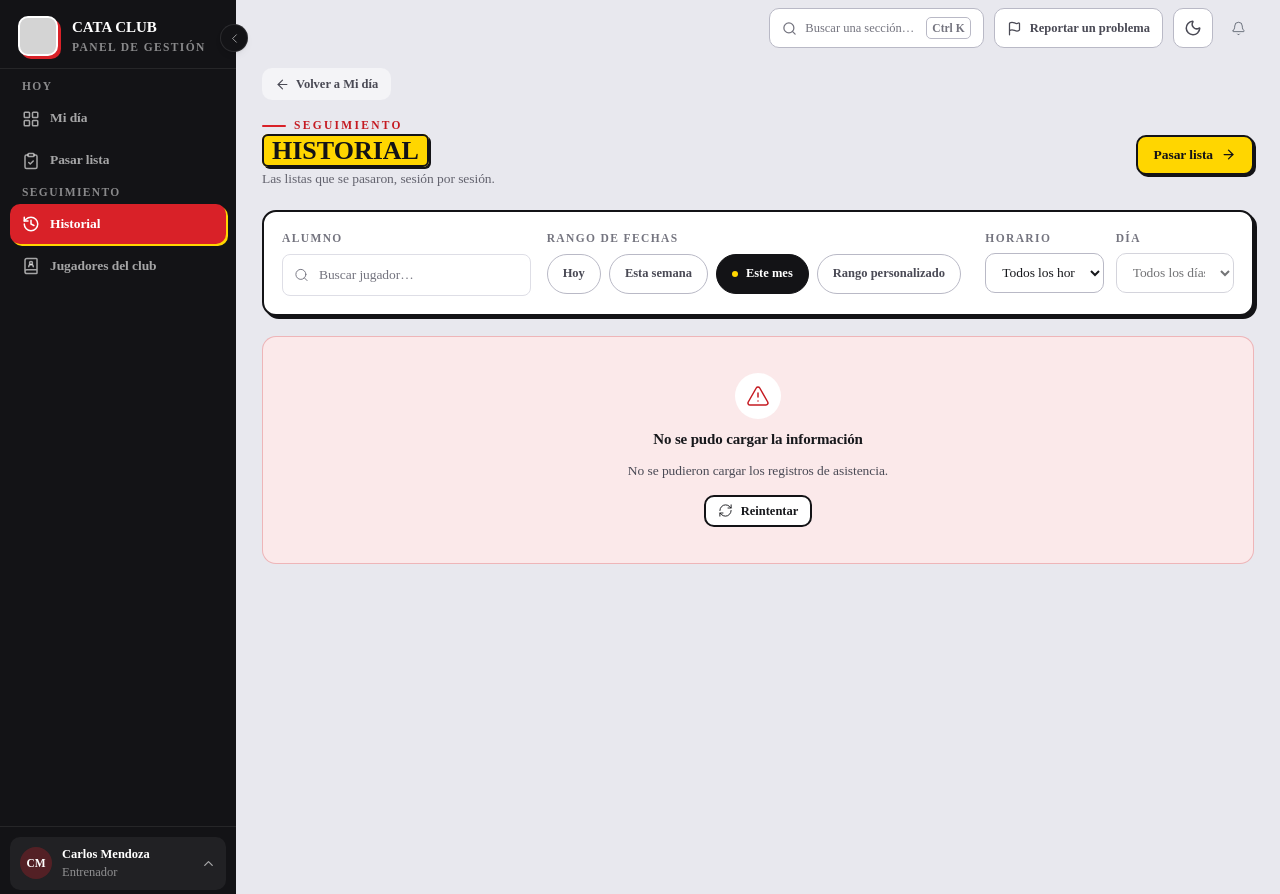
Scenario: TrainerAttendanceHistoryPage › recovers from a failed load with a retry
Expected: the text "No se pudieron cargar los registros de asistencia." is shown, [628, 461, 888, 481]
Click the button "Reintentar": (758, 511) [704, 495, 812, 527]
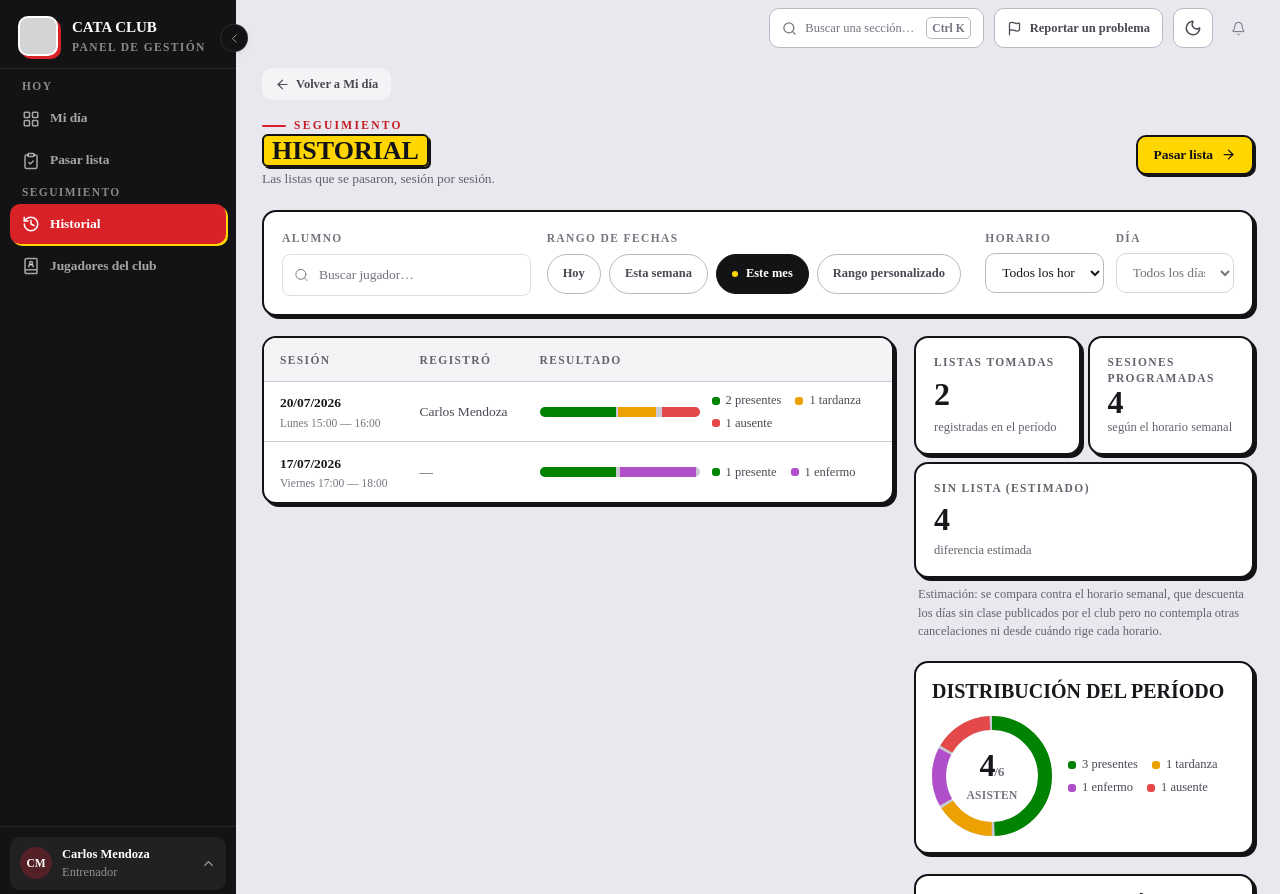
Now the text "No se pudieron cargar los registros" is gone
